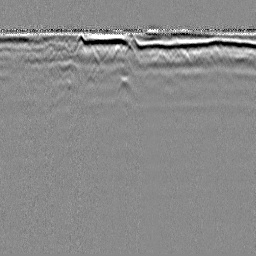cavity: (115, 73, 137, 98)
